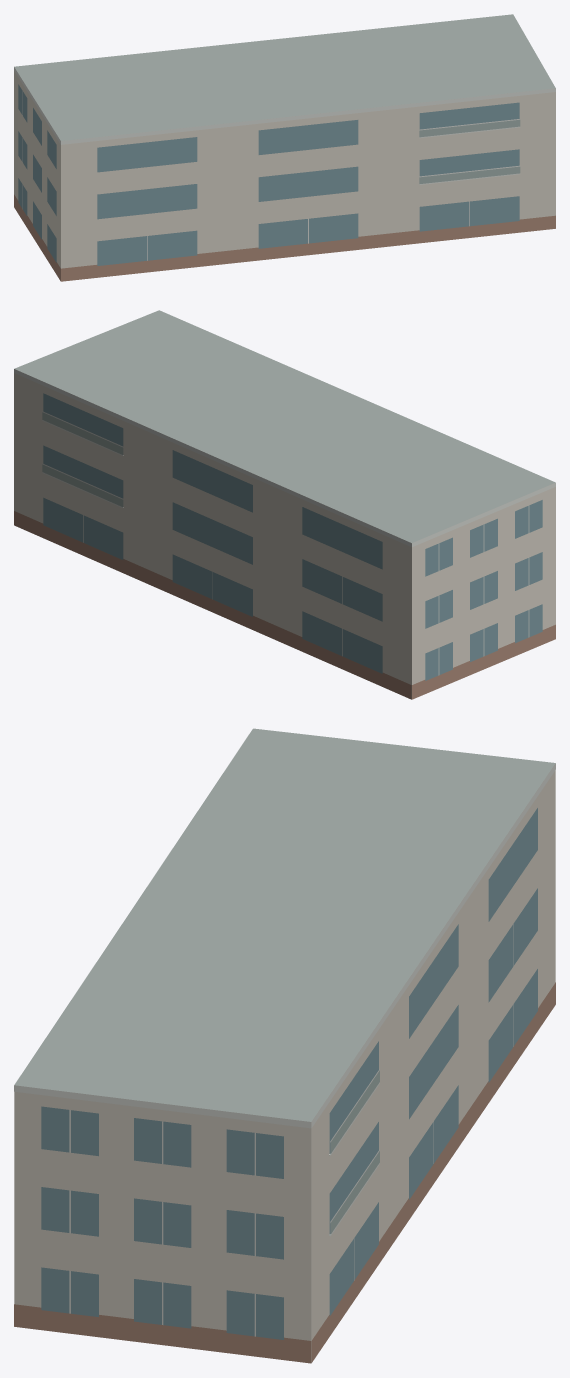
Rendered from survey-upis-32564940.glb.
3 views of the same model, one above another, from view 1: azimuth 30°, elevation 25°; view 2: azimuth 150°, elevation 25°; view 3: azimuth 270°, elevation 25° (orthographic). The views are drawn at different scales.
Parts seen in each view (by area): view 1: survey-upis-32564940.tmp; view 2: survey-upis-32564940.tmp; view 3: survey-upis-32564940.tmp.
Part boxes in pixels (x1,y1,x2,y2): survey-upis-32564940.tmp: [14, 14, 555, 281]; survey-upis-32564940.tmp: [14, 310, 555, 699]; survey-upis-32564940.tmp: [14, 728, 555, 1363].
Bounding box in the file's own units: 31.99 × 9.15 × 18.61.
